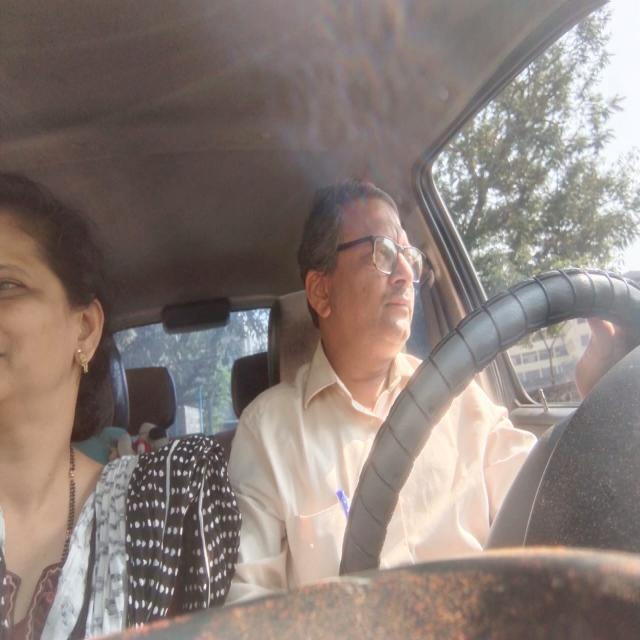LeftRight: (296, 179, 429, 358)
person: (1, 180, 103, 413)
